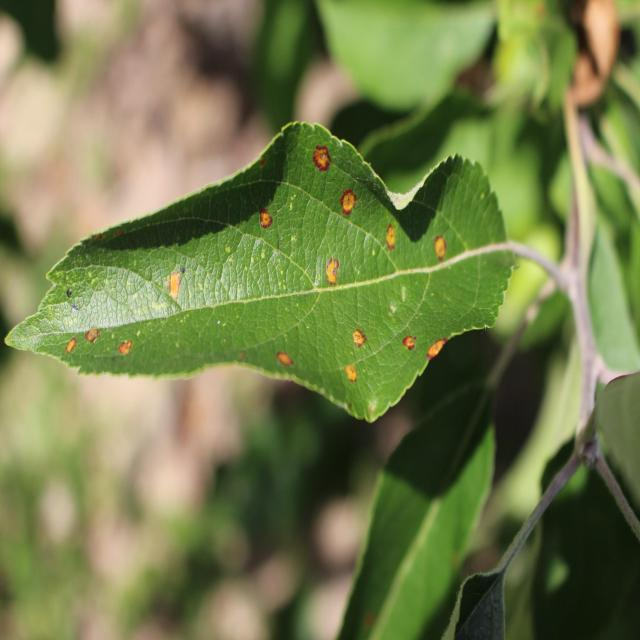Rust: (318, 245, 341, 298), (424, 331, 450, 373), (312, 135, 334, 181), (165, 258, 185, 308), (273, 348, 306, 377), (336, 181, 358, 224), (425, 233, 452, 268), (339, 362, 368, 388), (382, 213, 399, 257), (348, 325, 369, 357), (404, 322, 421, 360), (256, 210, 274, 235), (84, 325, 102, 350), (117, 338, 135, 361), (66, 332, 81, 358)
